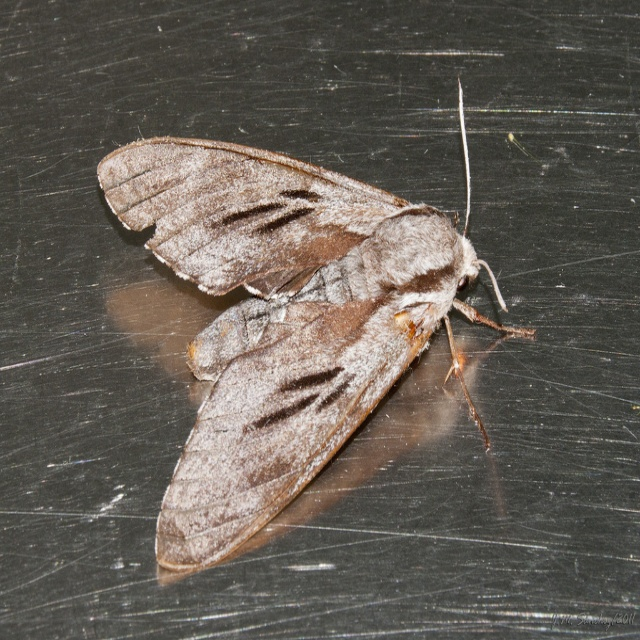Moths and butterflies: (94, 75, 540, 574)
